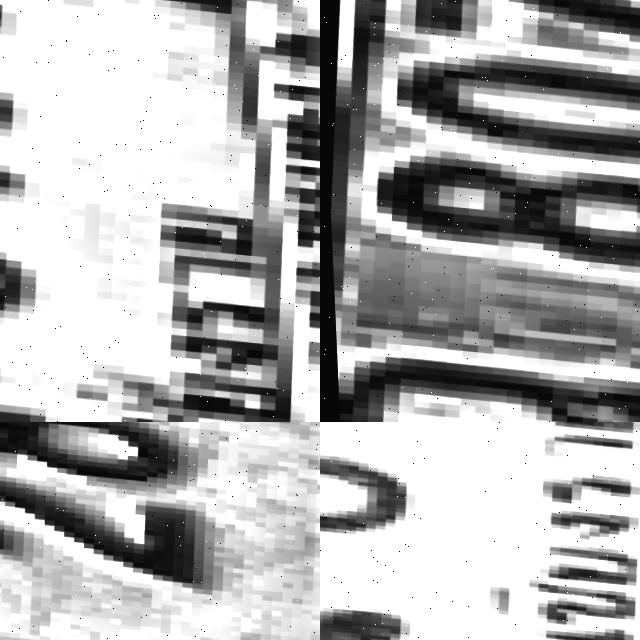license-plate: (0, 0, 320, 422), (320, 0, 640, 422), (0, 422, 320, 640), (320, 422, 640, 640)
